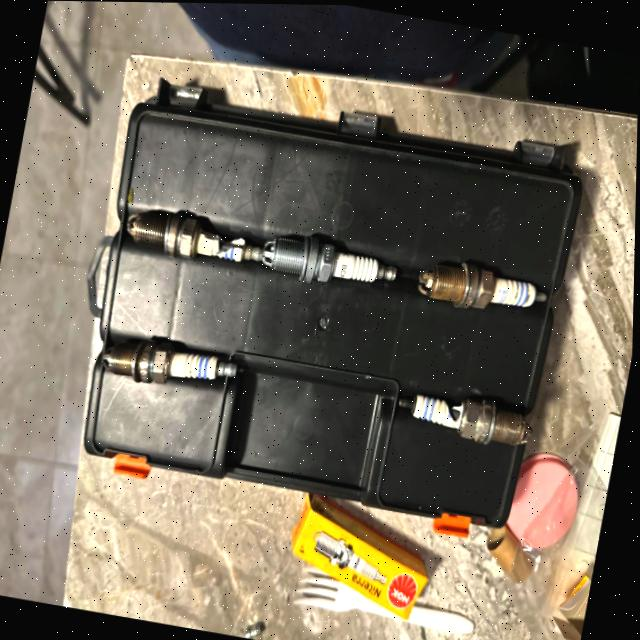damaged_spark-plug: (394, 378, 544, 458), (122, 204, 268, 274)
spark-plug: (409, 249, 557, 326), (259, 224, 404, 298), (97, 331, 243, 399)
